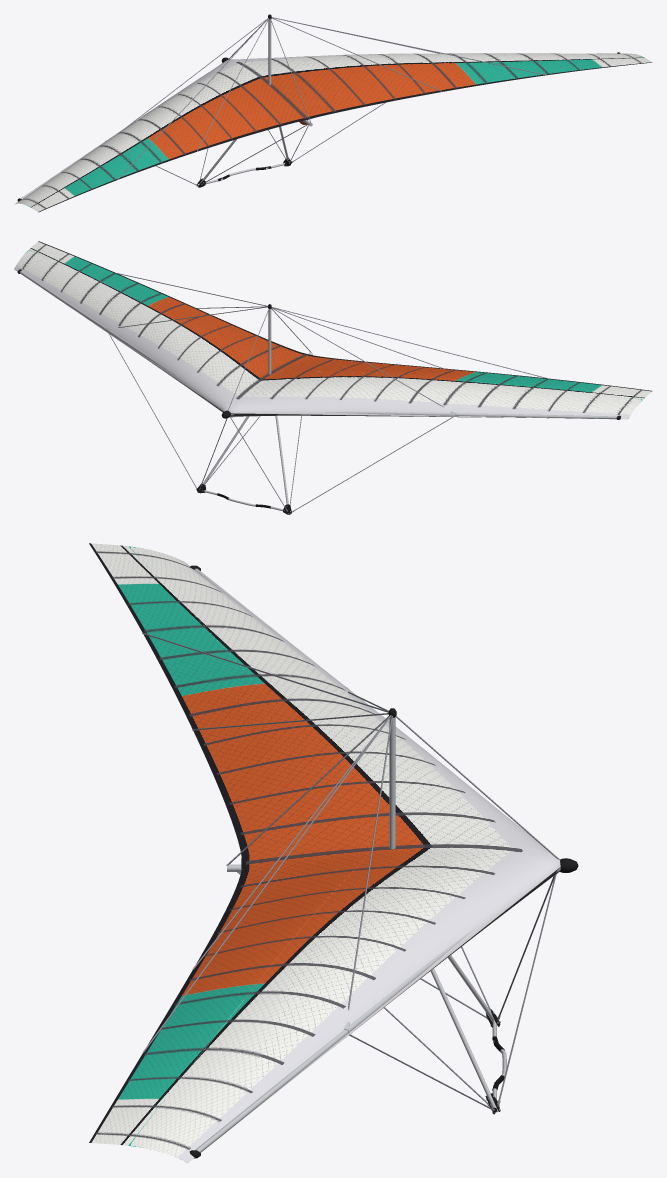
The model's file is glider_ww_super_sport.glb.
The picture shows the model from 3 angles, top to bottom: view 1: azimuth 30°, elevation 25°; view 2: azimuth 150°, elevation 25°; view 3: azimuth 270°, elevation 25°; orthographic projection. The views are drawn at different scales.
Visible parts, largest first — view 1: Sail, Frame, ControlFrame; view 2: Sail, Frame, ControlFrame; view 3: Sail, Frame, ControlFrame.
Part boxes in pixels (box(x1,y1,x2,y2)): Sail: box(15, 53, 652, 212); Frame: box(17, 14, 620, 201); ControlFrame: box(156, 102, 385, 187); Sail: box(14, 241, 652, 419); Frame: box(17, 269, 620, 419); ControlFrame: box(109, 334, 453, 514); Sail: box(89, 543, 560, 1163); Frame: box(142, 565, 578, 1158); ControlFrame: box(237, 871, 556, 1114).
Size of the model in its own units: 9.96 by 2.81 by 3.44.
8 materials, 1 textured.
